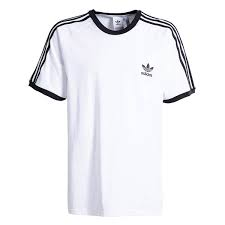adidas: (139, 62, 154, 78)
